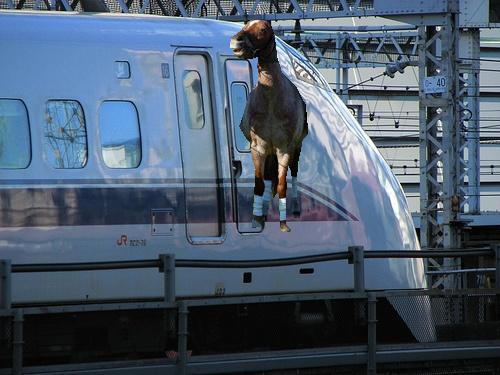tampered: (231, 21, 308, 232)
